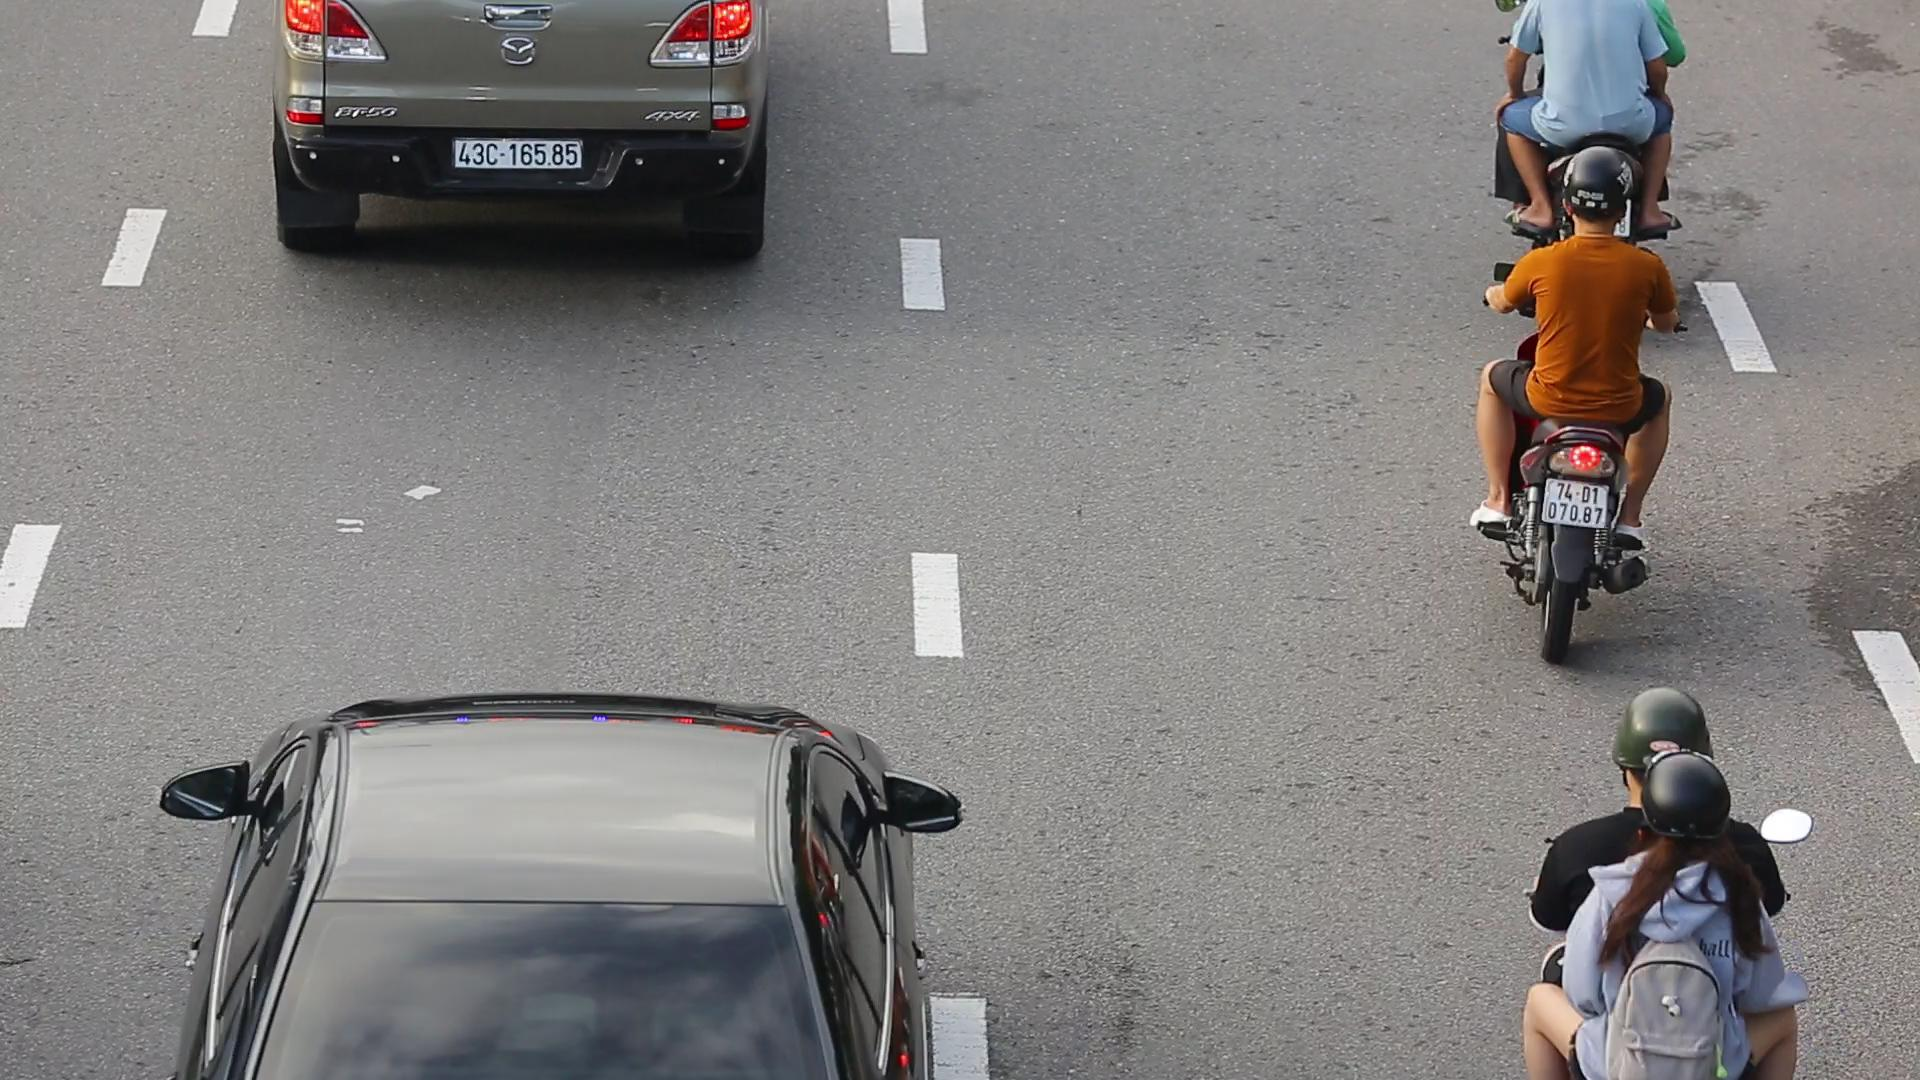motobike: (1468, 137, 1705, 676)
